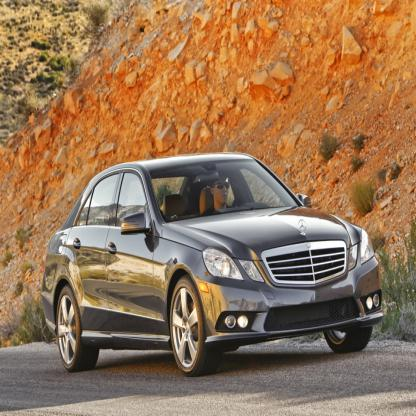Vehicle: (40, 150, 386, 380)
